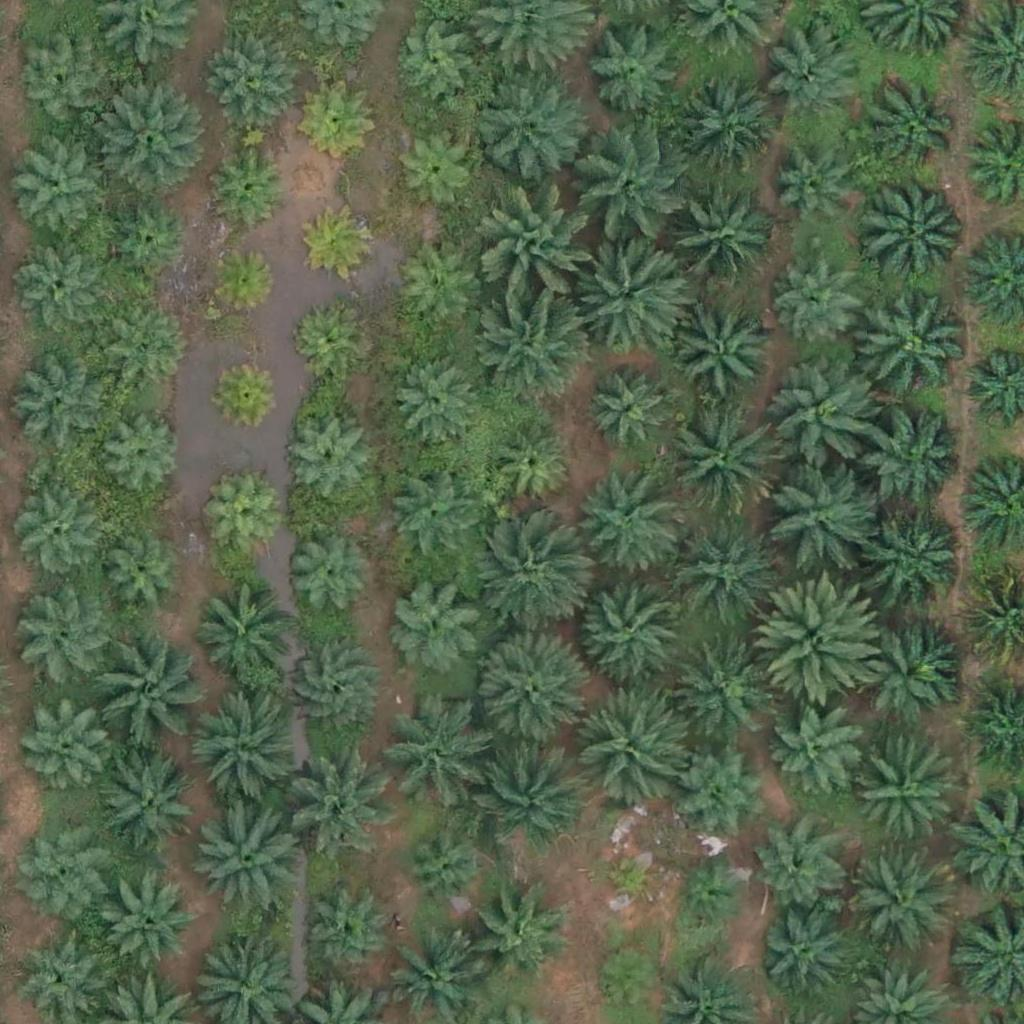Kelapa_Sawit: (759, 578, 884, 704), (761, 456, 874, 570), (185, 799, 298, 913), (662, 185, 775, 299), (663, 404, 776, 517), (667, 516, 780, 629), (574, 571, 687, 684), (471, 632, 584, 745), (855, 287, 968, 400), (579, 131, 692, 244), (478, 289, 591, 402), (93, 80, 206, 193), (768, 362, 881, 475), (471, 734, 583, 848), (188, 695, 300, 809), (861, 172, 973, 286), (484, 193, 596, 307), (567, 472, 679, 585), (572, 689, 684, 802), (469, 523, 581, 636), (282, 740, 394, 853), (86, 634, 198, 747), (574, 236, 686, 349), (471, 67, 583, 180), (868, 508, 968, 609), (854, 745, 954, 846), (849, 857, 949, 958), (671, 637, 771, 738), (673, 738, 773, 839), (465, 886, 565, 987), (379, 707, 479, 808), (192, 583, 292, 684), (95, 751, 195, 852), (16, 588, 116, 689), (674, 301, 774, 402), (579, 13, 679, 114), (12, 352, 112, 453), (863, 415, 963, 515), (853, 615, 953, 715), (386, 573, 486, 673), (284, 641, 384, 741), (867, 79, 967, 179), (768, 23, 868, 123), (675, 79, 775, 179), (753, 825, 841, 913), (486, 422, 574, 510), (400, 824, 488, 912), (281, 415, 369, 503), (107, 884, 195, 972), (7, 487, 95, 575), (103, 195, 191, 283), (103, 313, 191, 401), (586, 367, 674, 455), (389, 123, 477, 211), (394, 246, 482, 334), (13, 151, 101, 239), (14, 243, 102, 331), (756, 912, 843, 1001), (386, 472, 473, 561), (771, 705, 858, 793), (283, 531, 370, 619), (305, 893, 392, 981), (99, 411, 186, 499), (96, 535, 183, 623), (10, 930, 97, 1018), (19, 818, 106, 906), (22, 703, 109, 791), (772, 156, 859, 244), (777, 261, 864, 349), (392, 21, 479, 109), (393, 355, 480, 443), (207, 31, 294, 119), (19, 40, 106, 128), (288, 301, 363, 377), (672, 858, 747, 934), (591, 945, 666, 1021), (205, 481, 280, 557), (210, 354, 285, 430), (303, 205, 378, 281), (213, 147, 288, 222), (205, 244, 280, 319), (303, 83, 378, 158), (598, 846, 660, 909)
